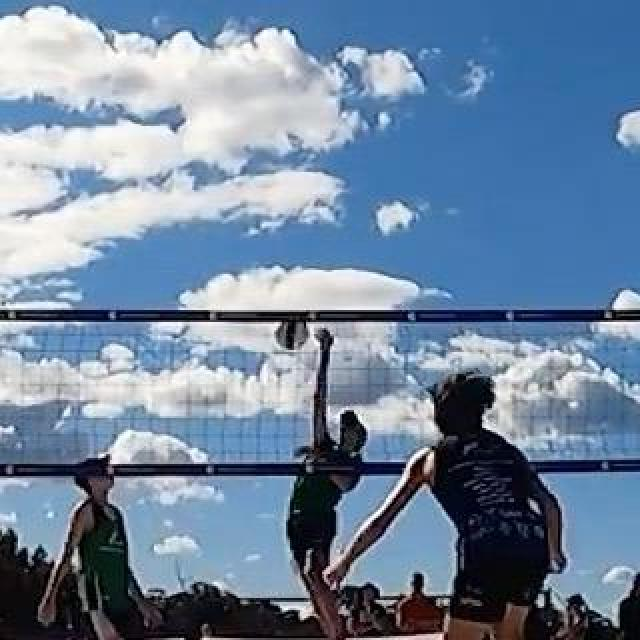volleyball: (274, 315, 312, 349)
